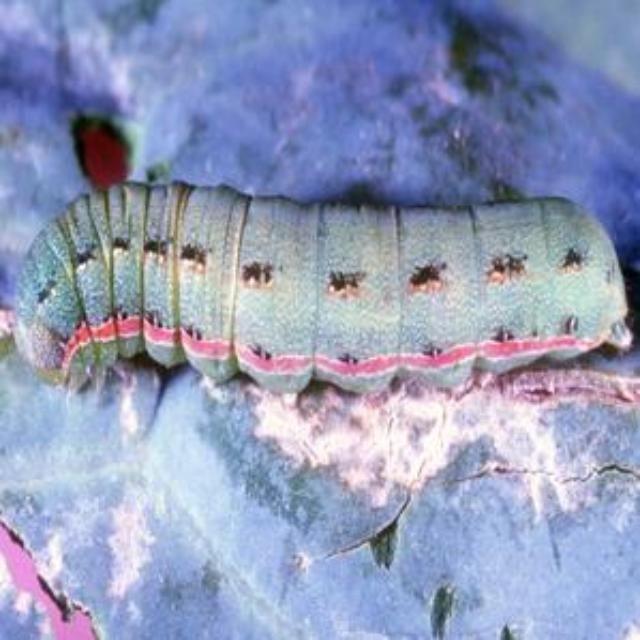Beet armyworm: (8, 152, 640, 510)
